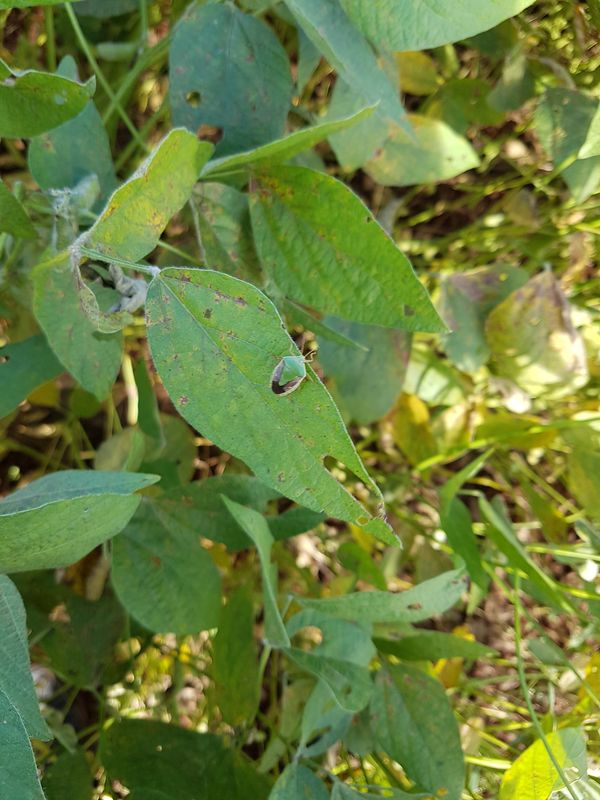Edessa_meditabunda: (254, 335, 325, 406)
